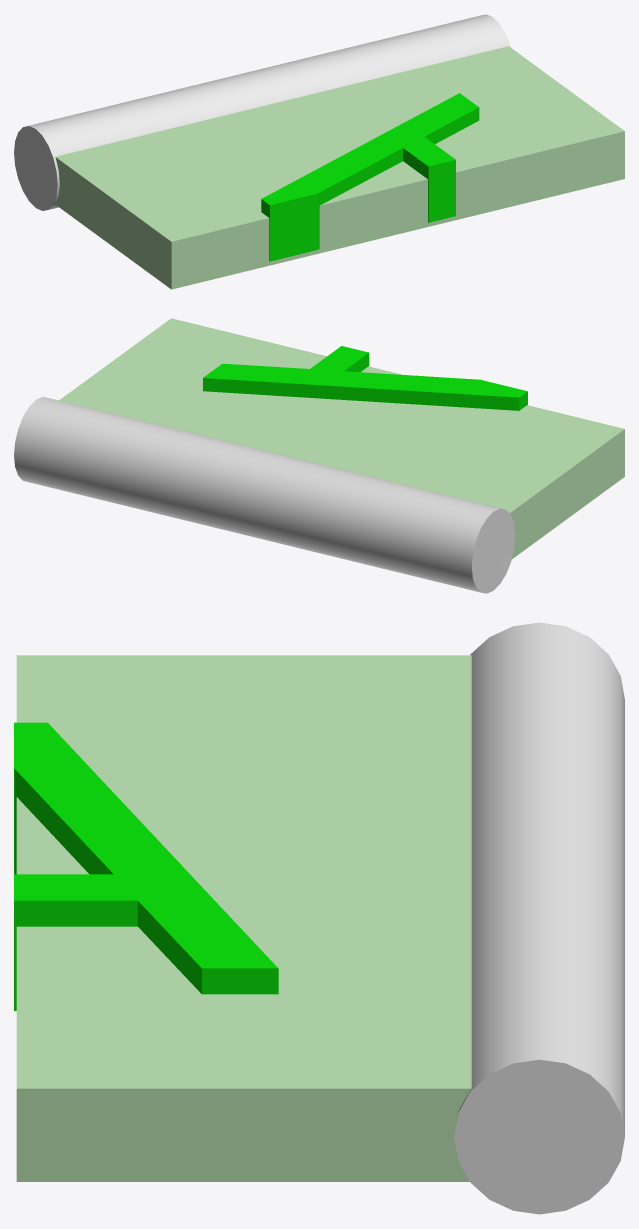
The model's file is A_Right.fbx.
3 renders of one model, top to bottom at view 1: azimuth 30°, elevation 25°; view 2: azimuth 150°, elevation 25°; view 3: azimuth 270°, elevation 25°, orthographic. The views are drawn at different scales.
Parts seen in each view (by area): view 1: polySurface3; view 2: polySurface3; view 3: polySurface3.
Part boxes in pixels (x1,y1,x2,y2): polySurface3: (14, 14, 624, 289); polySurface3: (14, 318, 624, 593); polySurface3: (14, 622, 624, 1214).
Size of the model in its own units: 6.05 by 1 by 3.58.
